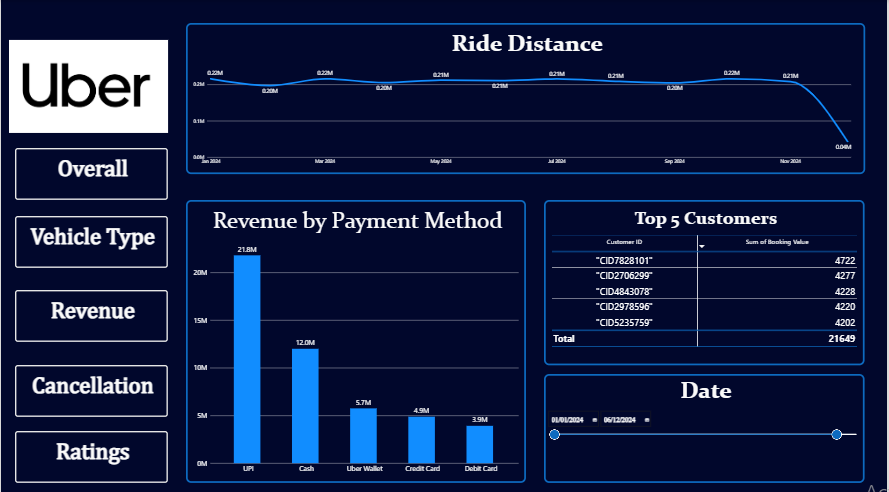

What the dashboard file says about the page in this screenshot:
{"tool":"powerbi","page":{"name":"Revenue","canvas":[2560,1440],"ordinal":2},"visuals":[{"type":"actionButton","title":"Overall","box":[40.5,428,442.4,150.4],"z":0},{"type":"actionButton","title":"Vehicle Type","box":[40.5,624.6,442.4,150.4],"z":1000},{"type":"actionButton","title":"Revenue","box":[40.5,838.6,442.4,150.4],"z":2000},{"type":"actionButton","title":"Cancellation","box":[40.5,1055.4,442.4,150.4],"z":3000},{"type":"actionButton","title":"Ratings","box":[40.5,1246.3,442.4,150.4],"z":4000},{"type":"image","box":[23.1,95.4,459.8,309.4],"z":5000},{"type":"lineChart","title":"Ride Distance","fields":{"Category":["ncr_ride_bookings (3).Date.Variation.Date Hierarchy.Year","ncr_ride_bookings (3).Date.Variation.Date Hierarchy.Quarter","ncr_ride_bookings (3).Date.Variation.Date Hierarchy.Month","ncr_ride_bookings (3).Date.Variation.Date Hierarchy.Day"],"Y":["Sum(ncr_ride_bookings (3).Ride Distance)"]},"box":[533.9,65.6,1963.7,437.1],"z":5001},{"type":"columnChart","title":"Revenue by Payment Method","fields":{"Category":["ncr_ride_bookings (3).Payment Method"],"Y":["Sum(ncr_ride_bookings (3).Booking Value)"]},"box":[533.9,577.6,983.4,818],"z":5002},{"type":"tableEx","title":"Top 5 Customers","fields":{"Values":["ncr_ride_bookings (3).Customer ID","Sum(ncr_ride_bookings (3).Booking Value)"]},"box":[1570.3,577.6,927.2,477.7],"z":5003},{"type":"slicer","title":"Date","fields":{"Values":["ncr_ride_bookings (3).Date"]},"box":[1570.3,1080.2,927.2,315.3],"z":5004}]}

Visuals, with their boxes in screenshot pixels (x1, y1, x2, y2), scaled from the page's 2560x1440 canvas onto the 889x492 screenshot:
"Overall" actionButton: bbox=[14, 146, 168, 198]
"Vehicle Type" actionButton: bbox=[14, 213, 168, 265]
"Revenue" actionButton: bbox=[14, 287, 168, 338]
"Cancellation" actionButton: bbox=[14, 361, 168, 412]
"Ratings" actionButton: bbox=[14, 426, 168, 477]
image: bbox=[8, 33, 168, 138]
"Ride Distance" lineChart: bbox=[185, 22, 867, 172]
"Revenue by Payment Method" columnChart: bbox=[185, 197, 527, 477]
"Top 5 Customers" tableEx: bbox=[545, 197, 867, 361]
"Date" slicer: bbox=[545, 369, 867, 477]
